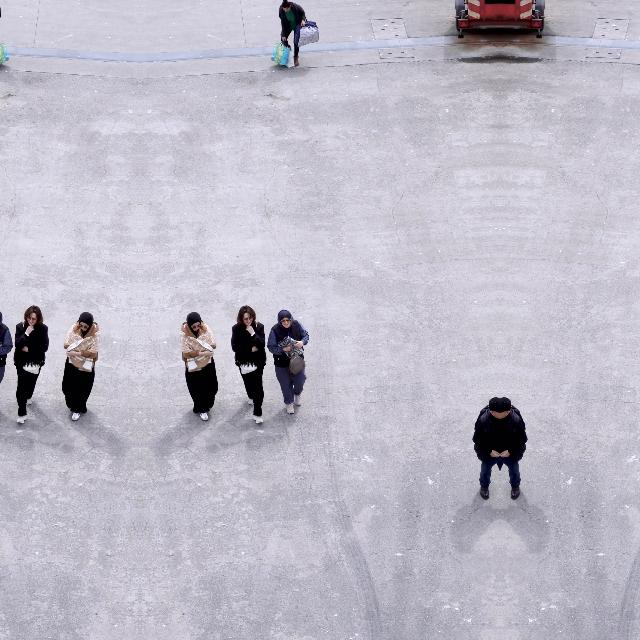person: (266, 309, 310, 415), (231, 304, 267, 424), (13, 304, 49, 424), (181, 312, 219, 421), (61, 312, 99, 421), (472, 396, 500, 499), (500, 396, 528, 499), (279, 0, 307, 68), (0, 309, 13, 415), (0, 0, 1, 67)
